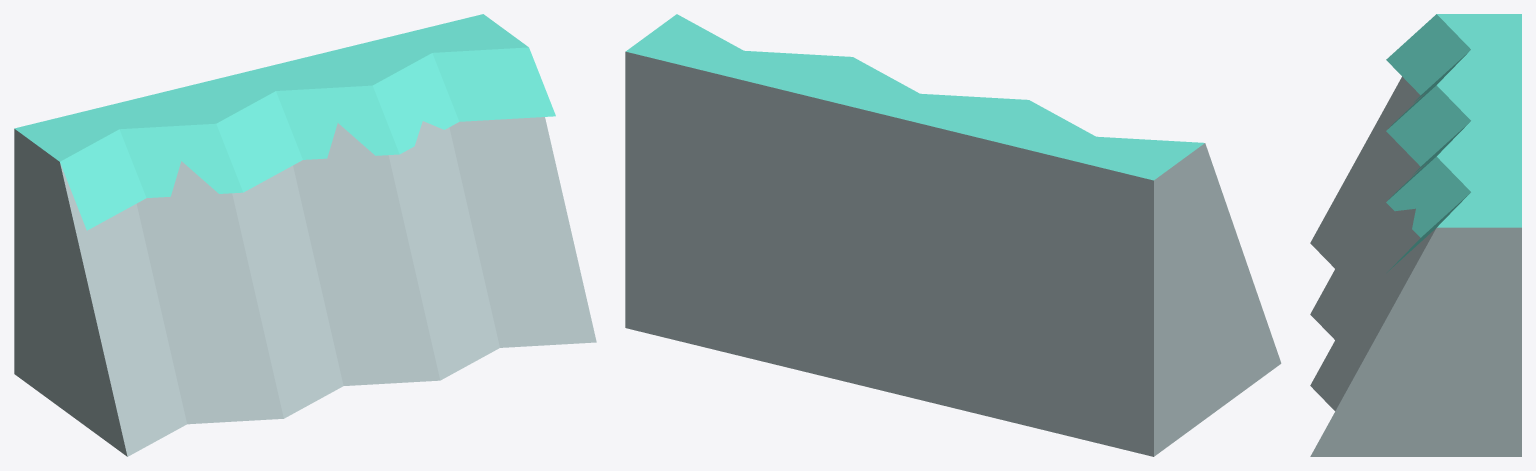
The model's file is cliff_half_stone.gltf.
3 renders of one model, left to right at view 1: azimuth 30°, elevation 25°; view 2: azimuth 150°, elevation 25°; view 3: azimuth 270°, elevation 25°, orthographic. The views are drawn at different scales.
Parts seen in each view (by area): view 1: cliff_half_stone; view 2: cliff_half_stone; view 3: cliff_half_stone.
Boxes of the visible parts, x1,y1,x2,y2 form: cliff_half_stone: [14, 14, 596, 456]; cliff_half_stone: [625, 14, 1281, 456]; cliff_half_stone: [1310, 14, 1521, 456].
Bounding box in the file's own units: 1 × 0.5 × 0.4185.
